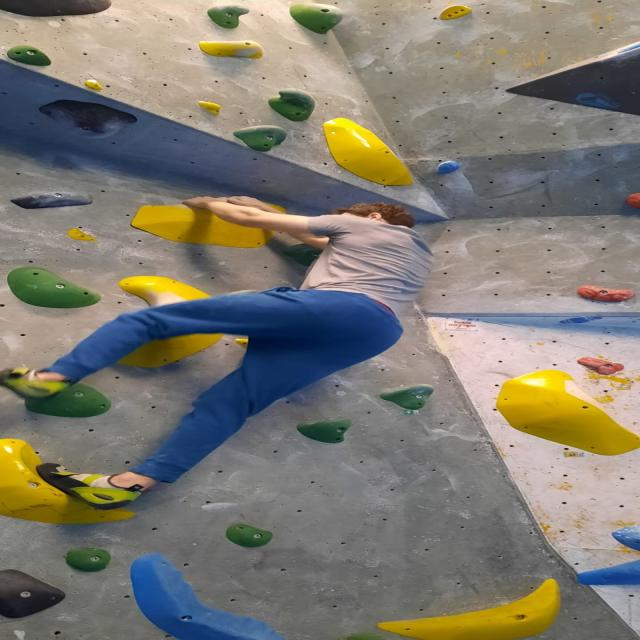Crimp: (318, 116, 418, 192), (574, 280, 638, 304), (7, 43, 54, 70), (572, 352, 623, 376), (64, 224, 100, 245), (194, 96, 225, 116), (432, 157, 462, 175)
Jug: (293, 412, 359, 450), (369, 382, 444, 412), (264, 86, 318, 123), (287, 1, 347, 34), (233, 124, 290, 155), (204, 5, 250, 33)
Pinch: (9, 188, 97, 216)
Sloper: (485, 365, 640, 465), (125, 550, 291, 640), (379, 573, 566, 640), (129, 202, 299, 244), (33, 95, 138, 143), (6, 262, 99, 310), (0, 568, 71, 620), (24, 378, 112, 418), (574, 552, 640, 585), (197, 36, 269, 60), (224, 520, 276, 550), (65, 545, 116, 574), (609, 520, 640, 549), (437, 4, 477, 21)
